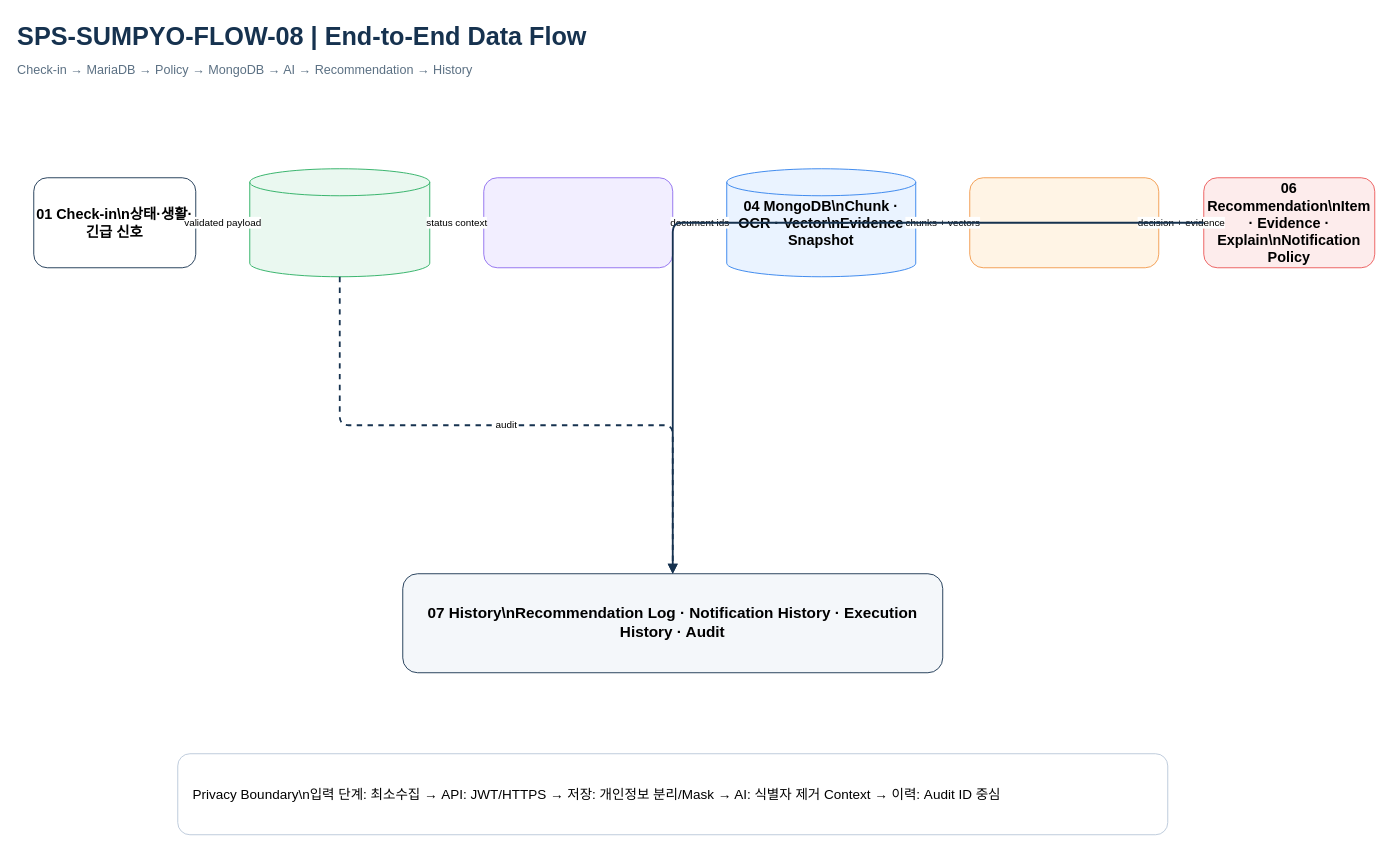
The diagram is 1391 pixels wide and 851 high, and some of its shapes have lost their labels. The centre of each missing label's shape, as x and y in pixels:
02 MariaDB\nGuardian · Check-in · Status\n정형 Transaction: point (339, 222)
03 Policy / Rule\n적용 정책·조건·Action\nRepository SSOT: point (578, 222)
05 AI Layer\nRule Engine · RAG · LLM\nConflict · Priority: point (1064, 222)
